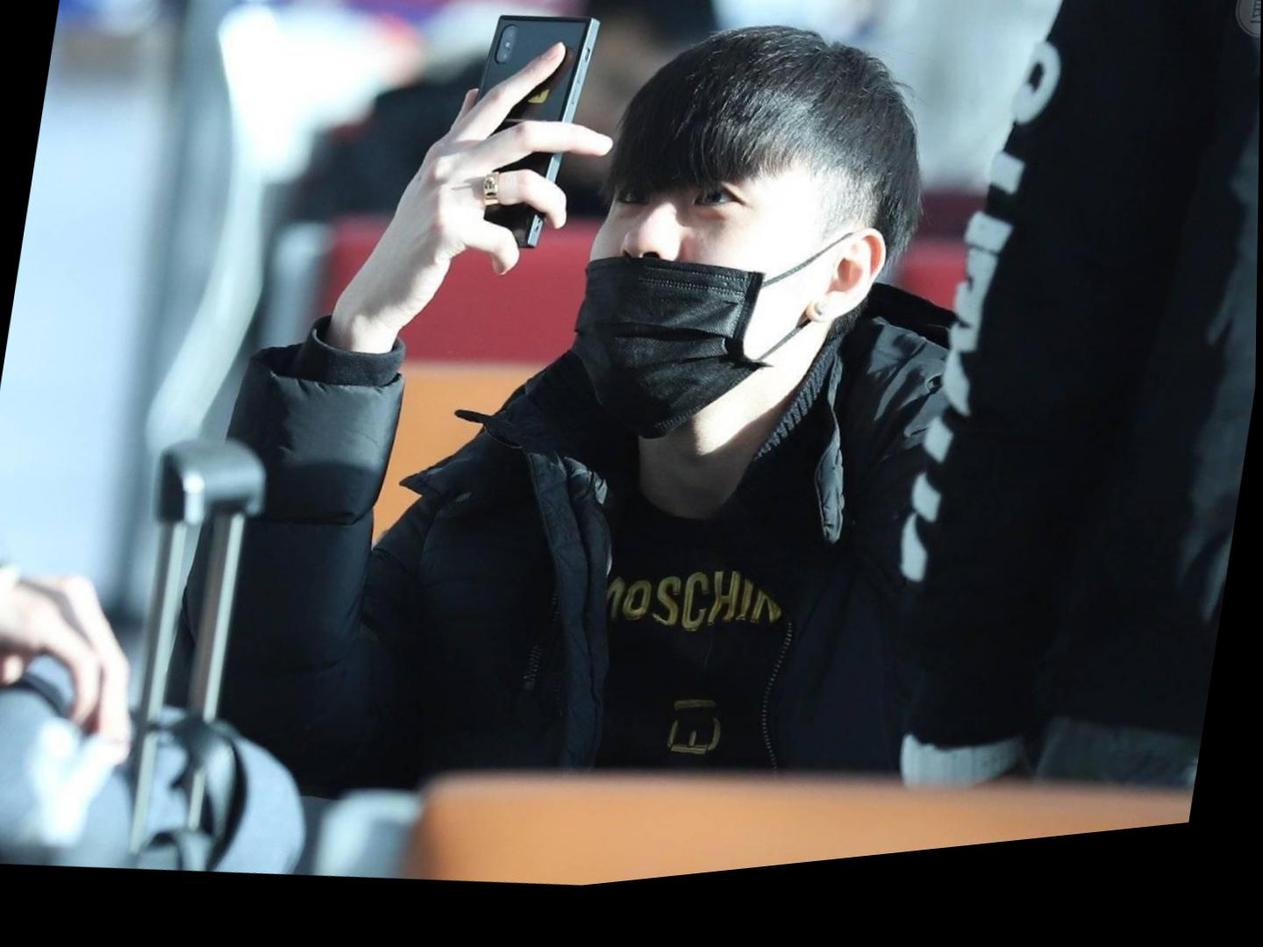WRONG: (565, 140, 821, 445)
